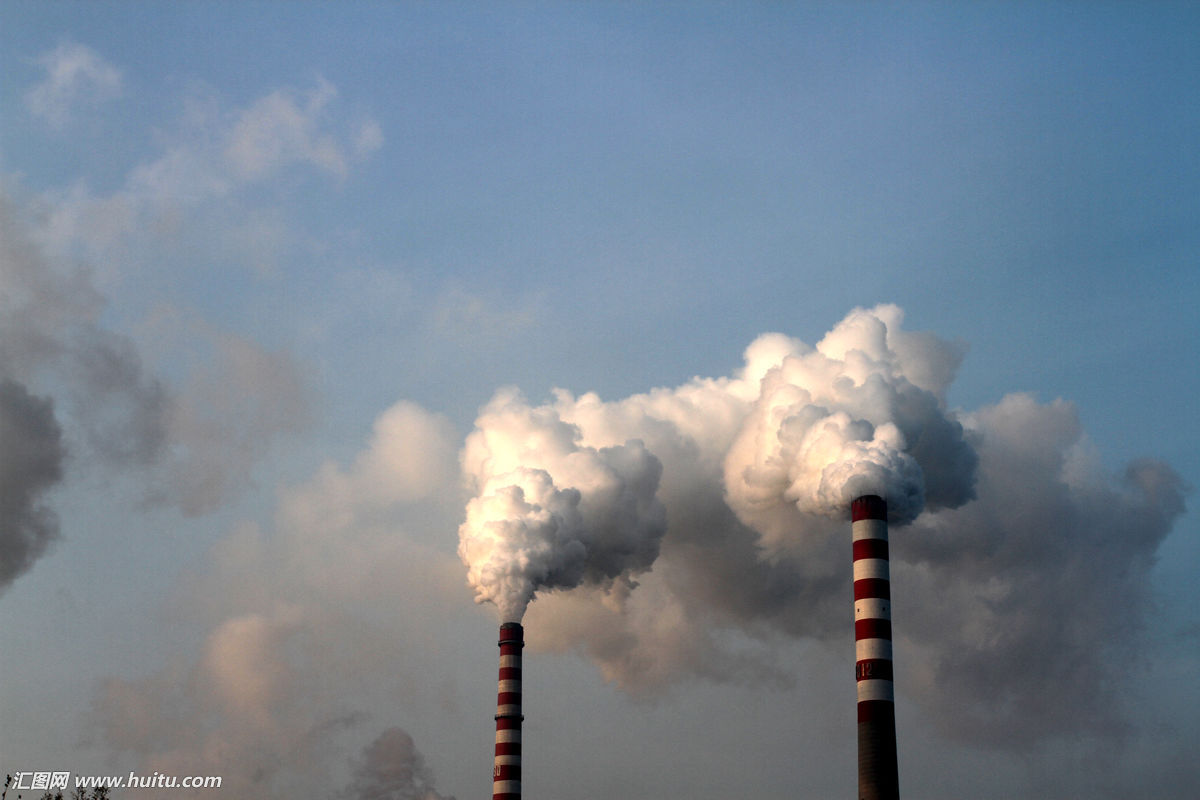dust: (425, 363, 699, 633), (727, 296, 995, 532)
